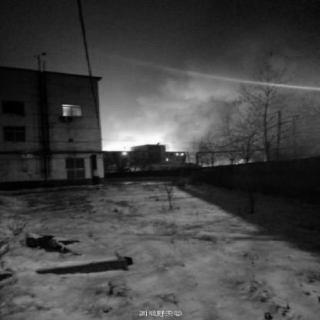Fire: (101, 57, 262, 153)
